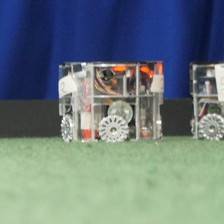robot: (55, 57, 167, 145), (186, 56, 224, 140)
